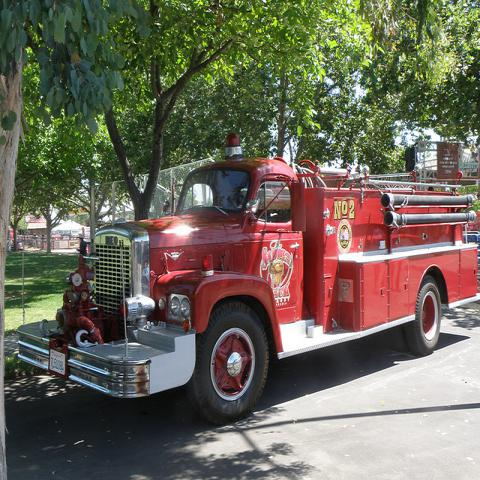truck: (18, 132, 479, 427)
